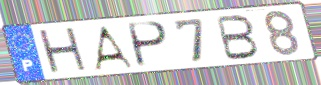7: (173, 17, 208, 64)
8: (263, 9, 302, 59)
A: (91, 24, 136, 72)
B: (214, 13, 262, 62)
H: (36, 25, 92, 77)
P: (127, 20, 171, 69)
